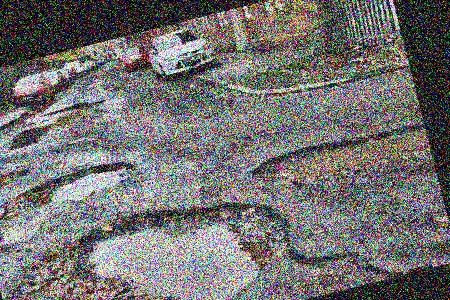pothole: (6, 173, 313, 300), (246, 115, 432, 203), (0, 154, 141, 225), (43, 95, 108, 130), (2, 119, 54, 154), (0, 164, 33, 198)
